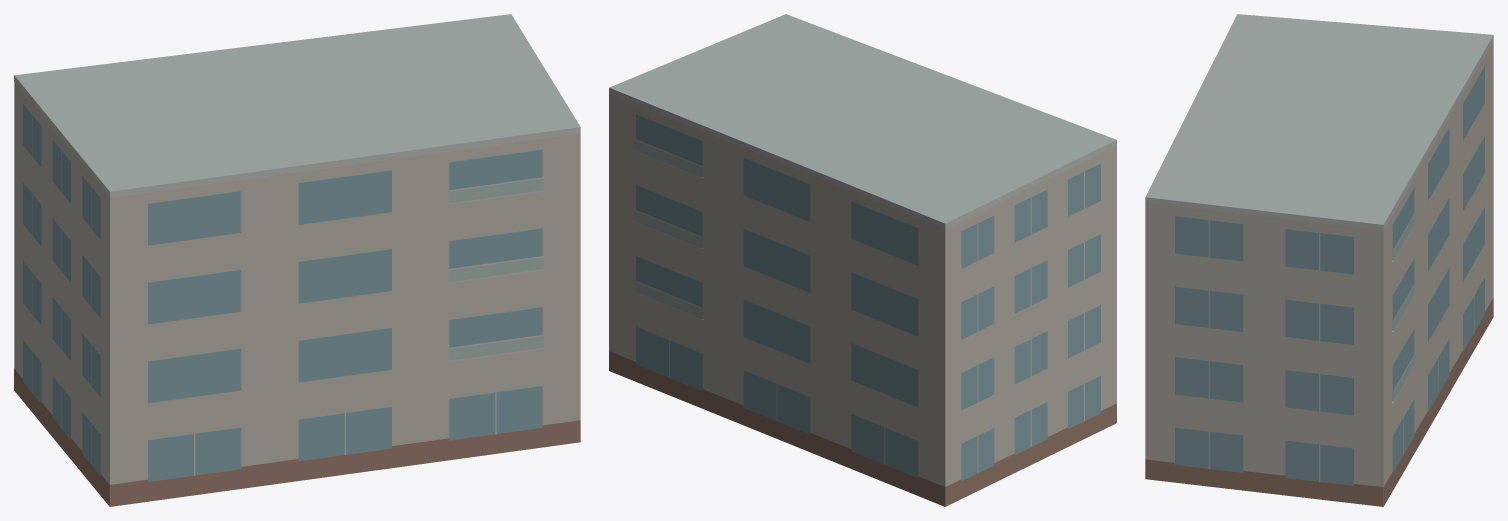
The model's file is survey-upis-32667897.glb.
3 renders of one model, left to right at view 1: azimuth 30°, elevation 25°; view 2: azimuth 150°, elevation 25°; view 3: azimuth 270°, elevation 25°, orthographic. The views are drawn at different scales.
Visible parts, largest first — view 1: survey-upis-32667897.tmp; view 2: survey-upis-32667897.tmp; view 3: survey-upis-32667897.tmp.
Part boxes in pixels (x1,y1,x2,y2): survey-upis-32667897.tmp: (14, 14, 580, 506); survey-upis-32667897.tmp: (609, 14, 1116, 506); survey-upis-32667897.tmp: (1145, 14, 1493, 506).
Bounding box in the file's own units: 19.58 × 12.2 × 13.67.
